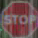Stop: (1, 6, 37, 32)
